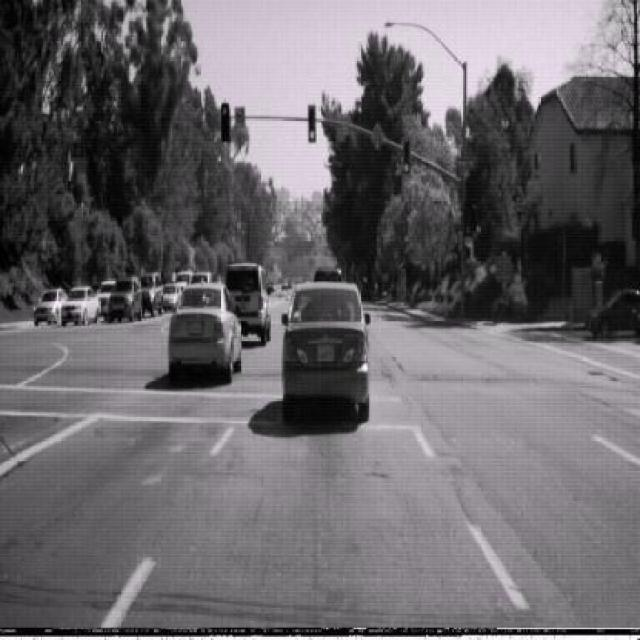laneEnds: (372, 118, 388, 152)
